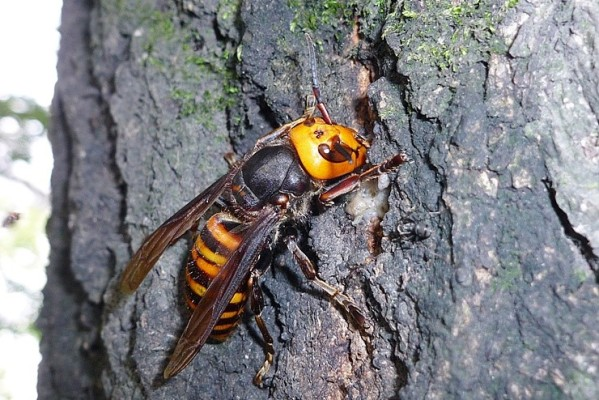asian_giant_hornet: (177, 93, 370, 345)
